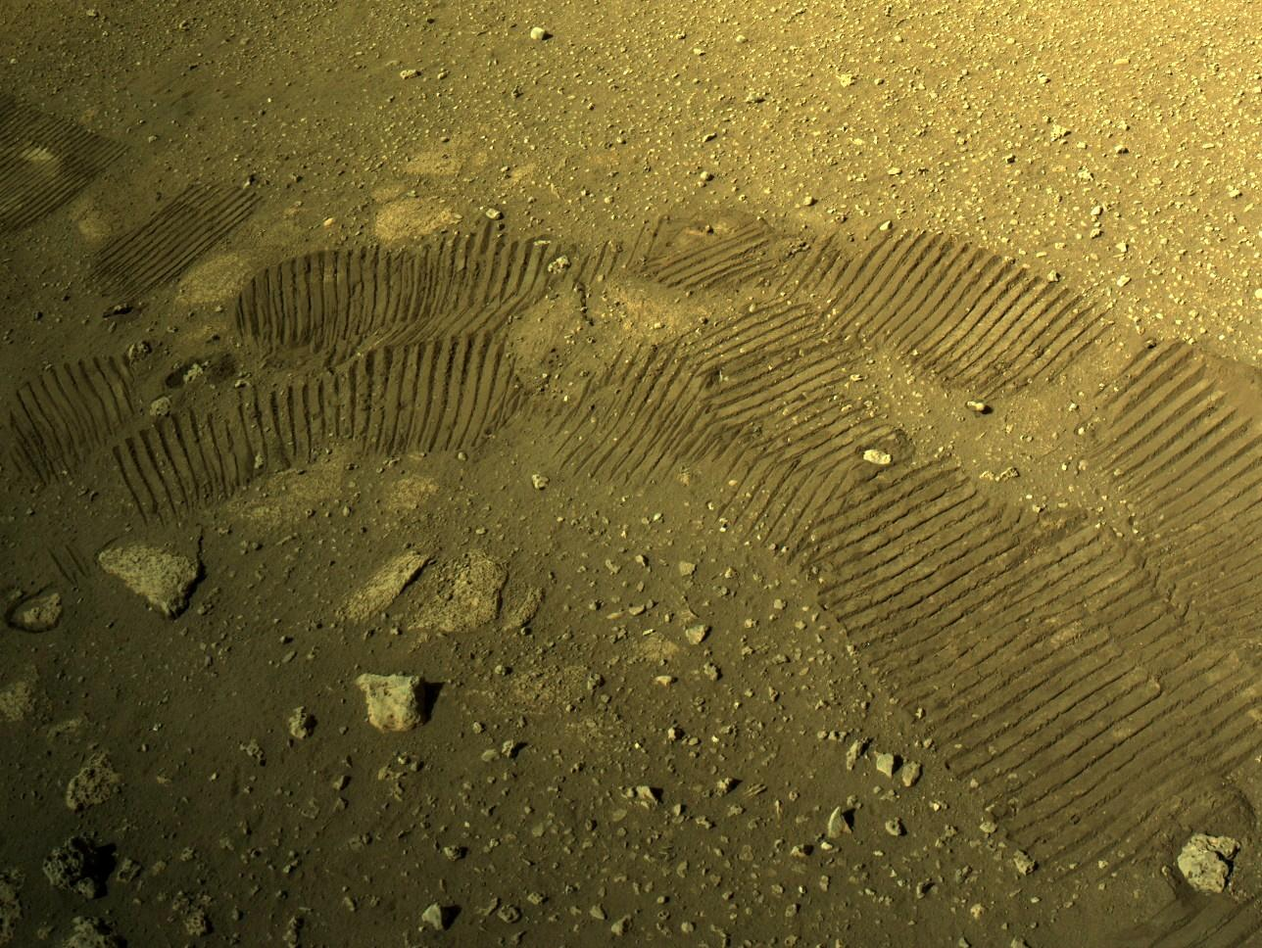bedrock: (148, 509, 597, 763), (10, 564, 216, 916), (9, 936, 1256, 942), (364, 480, 415, 491)
sand: (1257, 736, 1259, 936)
soil: (1, 3, 1260, 872), (229, 487, 302, 507), (357, 439, 392, 449), (156, 503, 197, 508), (0, 584, 5, 600)
